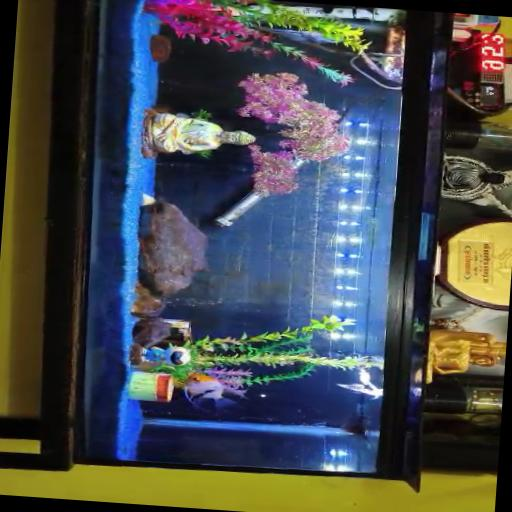Fish: (182, 373, 235, 407)
